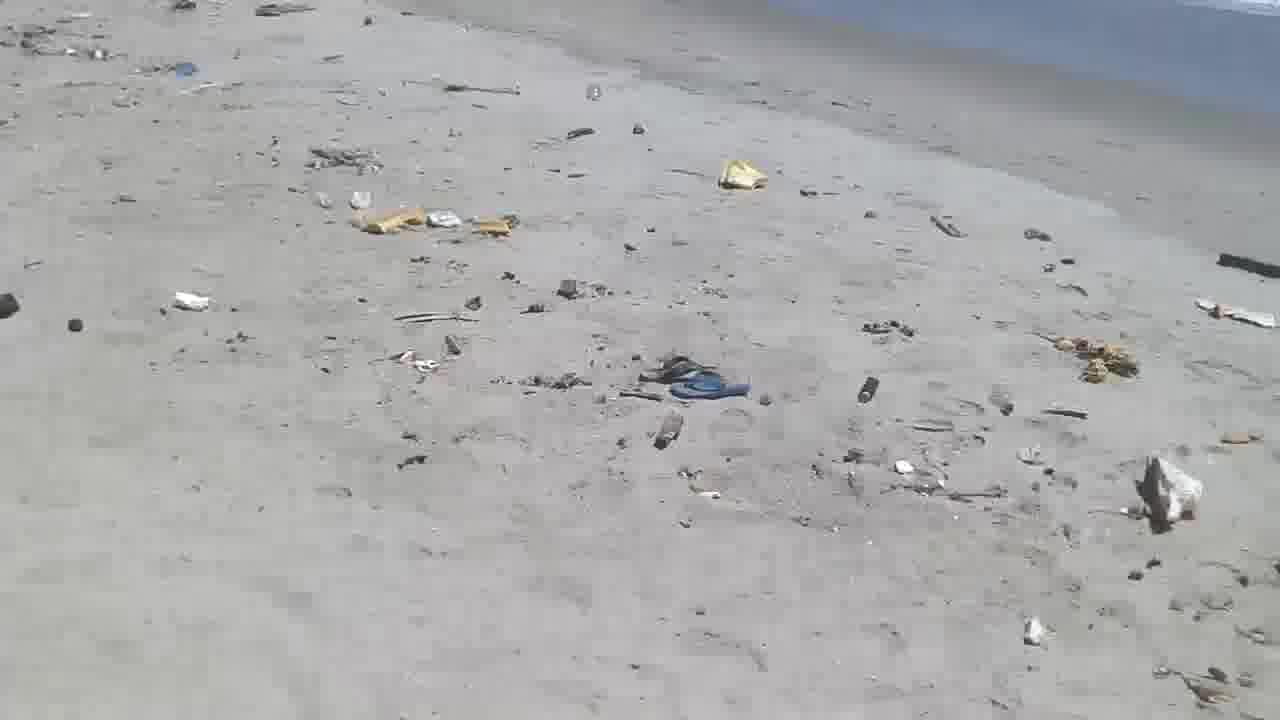large collection of objects: (1140, 458, 1206, 528)
obj: (634, 353, 752, 400), (1048, 338, 1144, 384), (1203, 298, 1279, 332), (365, 207, 425, 236), (718, 158, 768, 192), (1216, 254, 1278, 280), (656, 408, 690, 448), (471, 216, 514, 236), (176, 290, 210, 312), (860, 377, 883, 404), (0, 293, 20, 320), (432, 206, 458, 226), (348, 193, 374, 210), (66, 318, 84, 332)
sand/background: (732, 0, 1279, 124)
